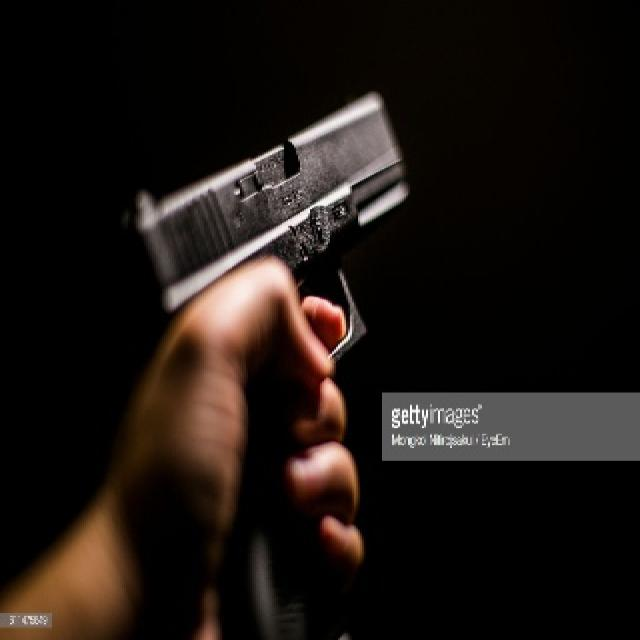handgun: (123, 68, 413, 638)
